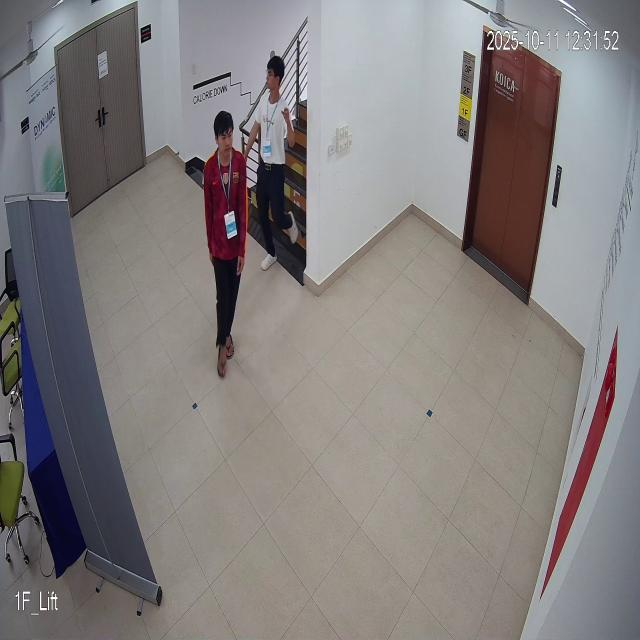face: (210, 107, 238, 162)
